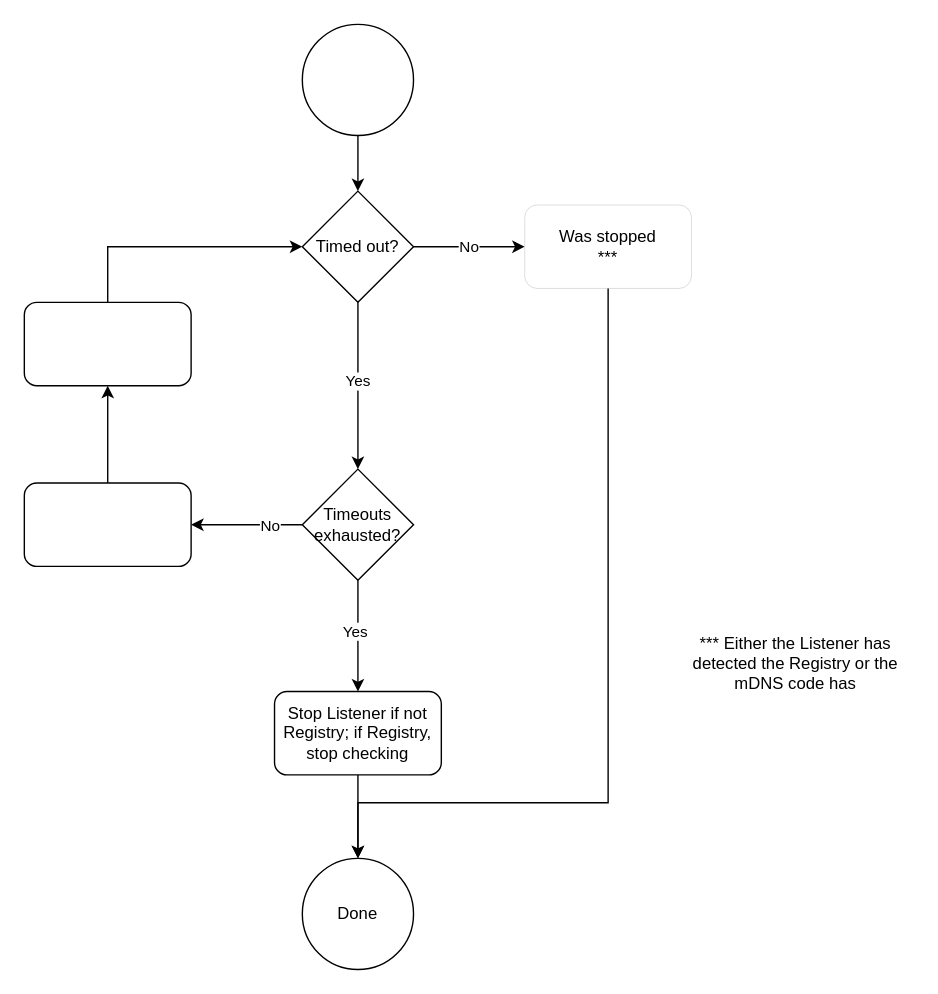
This 938x994 diagram has some shape labels left out. The shapes that lost their labels are listed below. From the top down, each one's centre as x and y in pixels, then its label:
At (357,79): "Timer".
At (107,343): "Restart timer".
At (107,524): "Send request".
